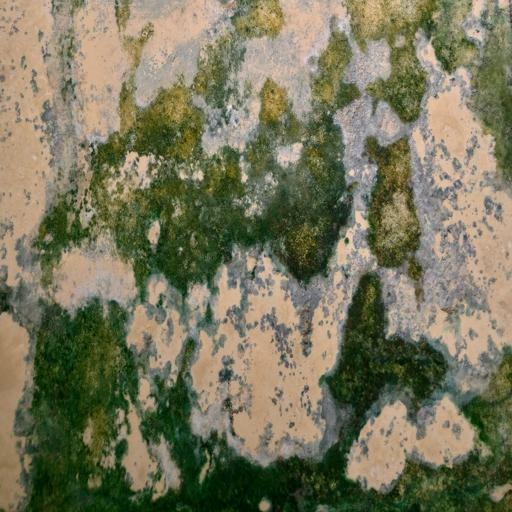algae: (13, 17, 512, 512)
